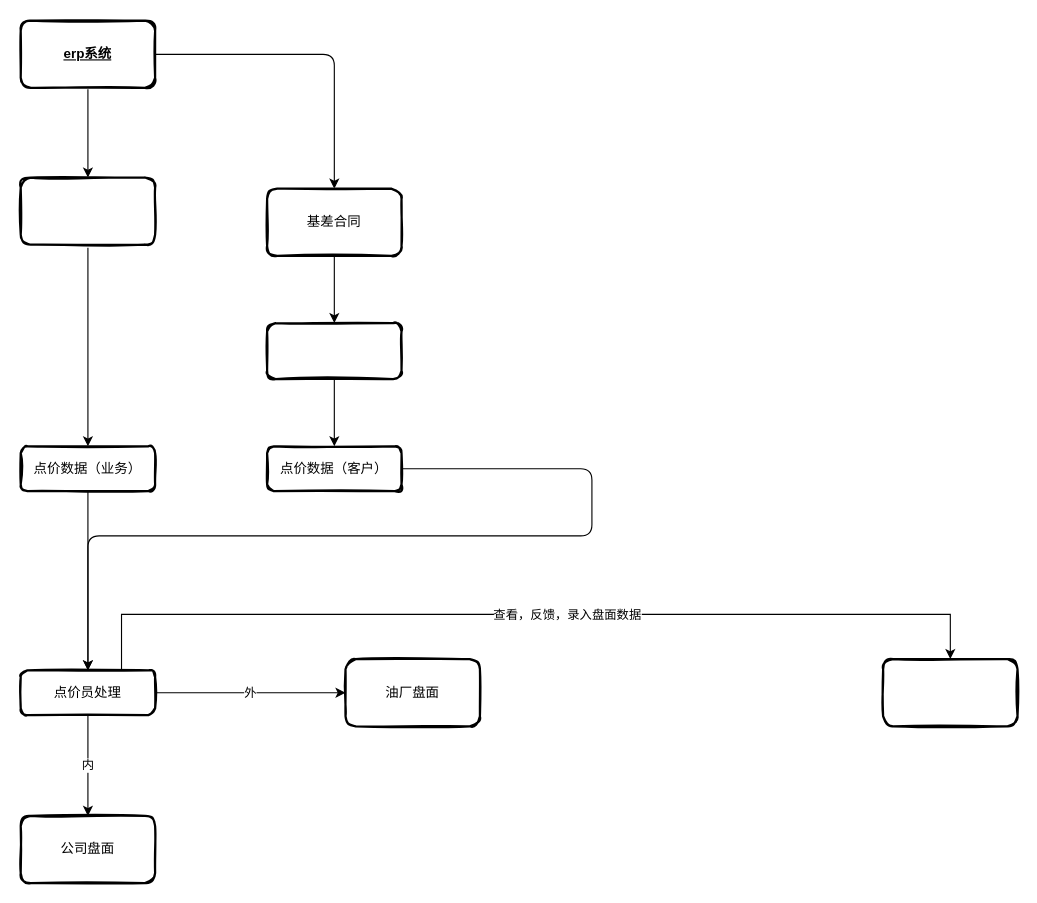
This 1037x903 diagram has some shape labels left out. The centre of each missing label's shape, as x and y in pixels:
"头寸表" belongs at pixel 87 210.
"客户申请点价" belongs at pixel 333 350.
"盘面信息流传平台" belongs at pixel 949 692.
